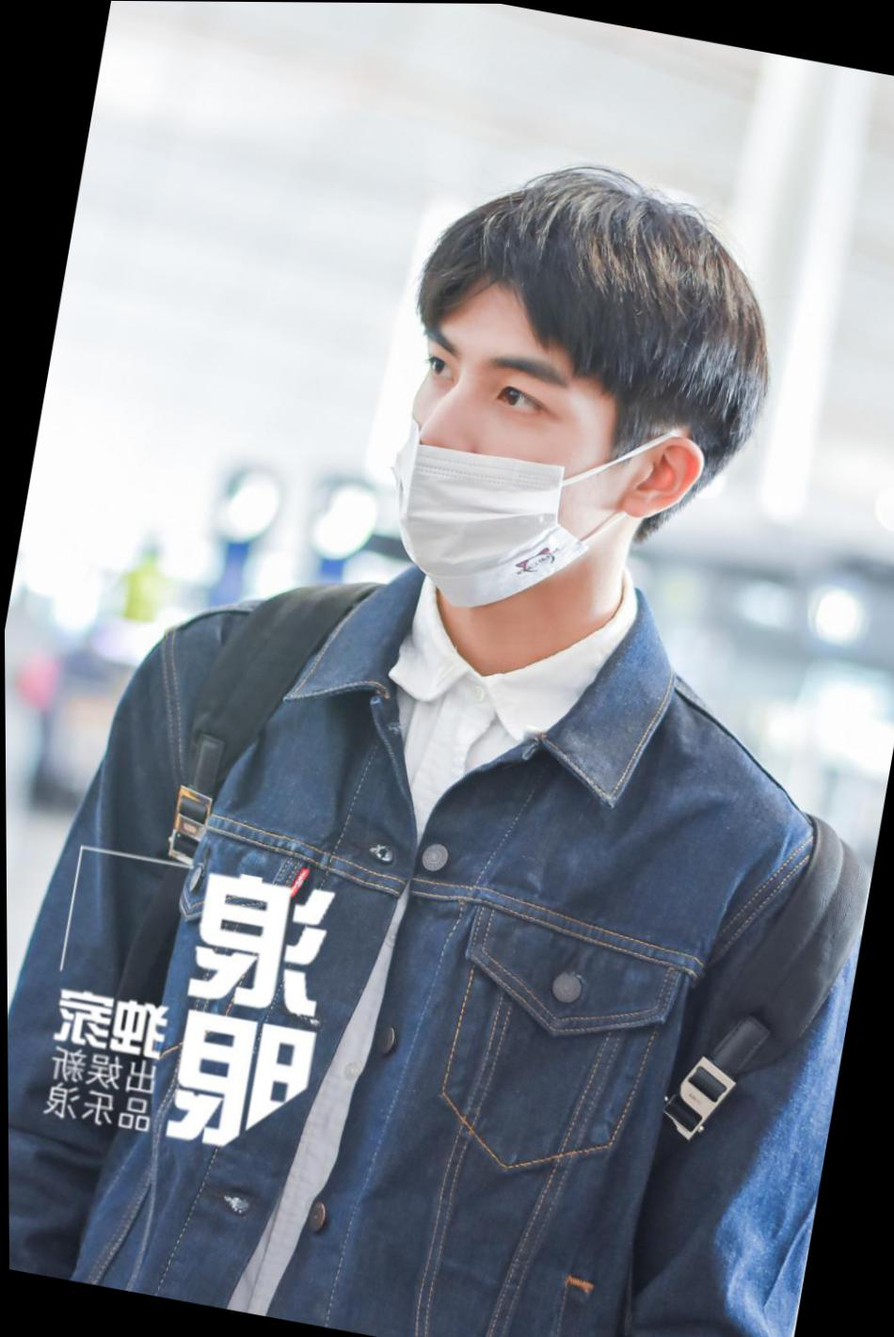WRONG: (375, 287, 642, 620)
